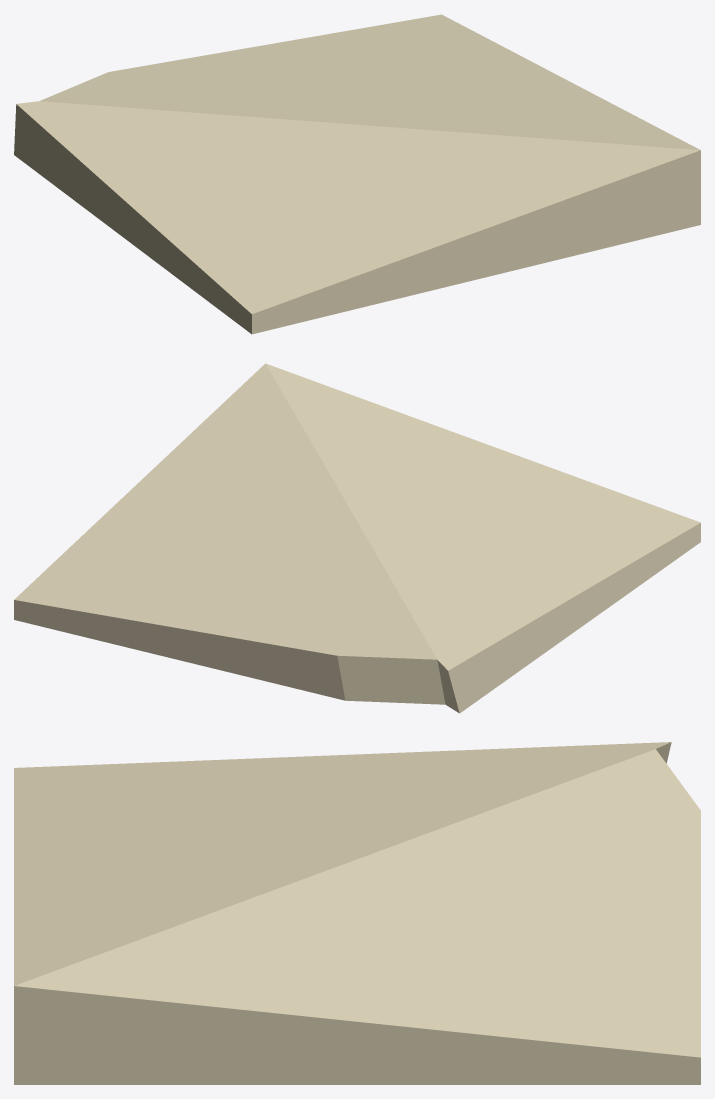
Rendered from Destroy_Plate_10.fbx.
3 views of the same model, one above another, from view 1: azimuth 30°, elevation 25°; view 2: azimuth 150°, elevation 25°; view 3: azimuth 270°, elevation 25° (orthographic). The views are drawn at different scales.
Parts seen in each view (by area): view 1: Destroy_Plate_10; view 2: Destroy_Plate_10; view 3: Destroy_Plate_10.
Boxes of the visible parts, x1,y1,x2,y2 form: Destroy_Plate_10: (14, 14, 700, 334); Destroy_Plate_10: (14, 363, 700, 713); Destroy_Plate_10: (14, 742, 700, 1084).
Size of the model in its own units: 300 by 47.69 by 300.
